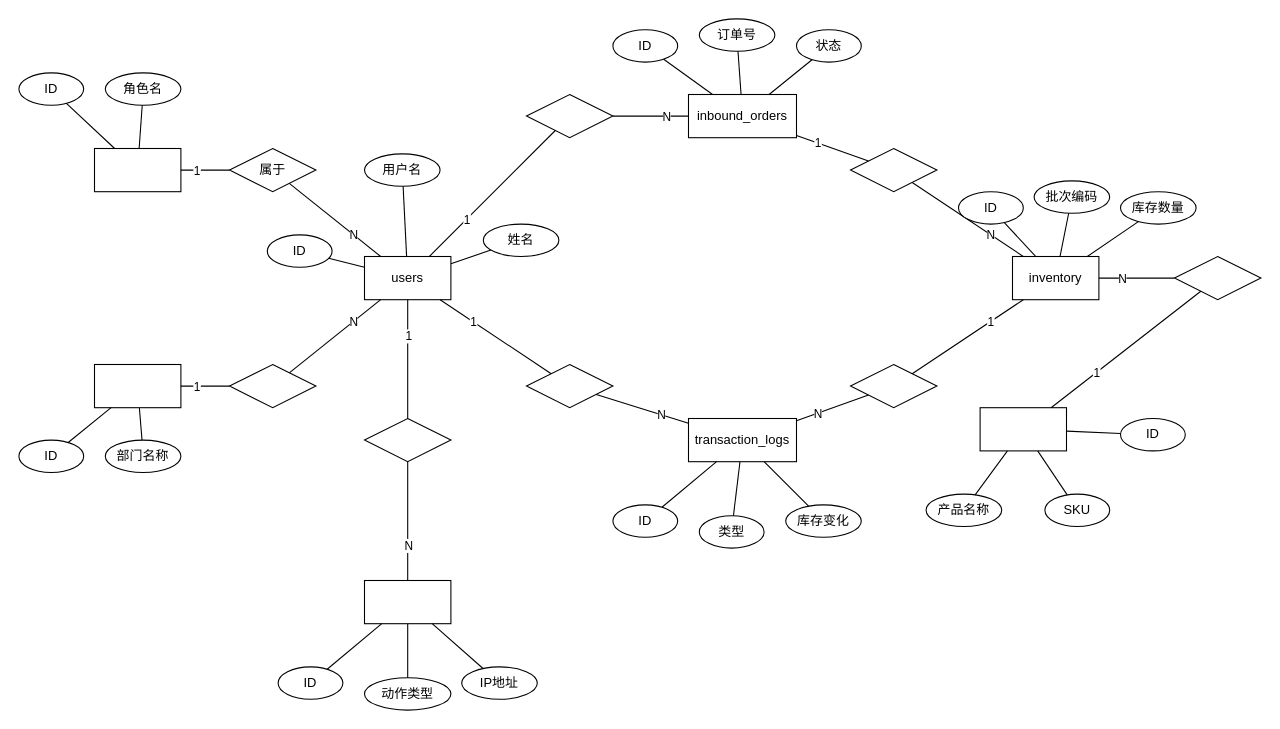
The diagram is 1280 pixels wide and 729 high, and some of its shapes have lost their labels. The centre of each missing label's shape, as x and y in pixels:
"departments" belongs at [137,385].
"products" belongs at [1022,429].
"roles" belongs at [137,169].
"system_logs" belongs at [407,601].
"入库为" belongs at [1217,277].
"创建" belongs at [569,115].
"包含" belongs at [893,169].
"异动记录" belongs at [893,385].
"所属" belongs at [272,385].
"执行" belongs at [569,385].
"操作记录" belongs at [407,439].
